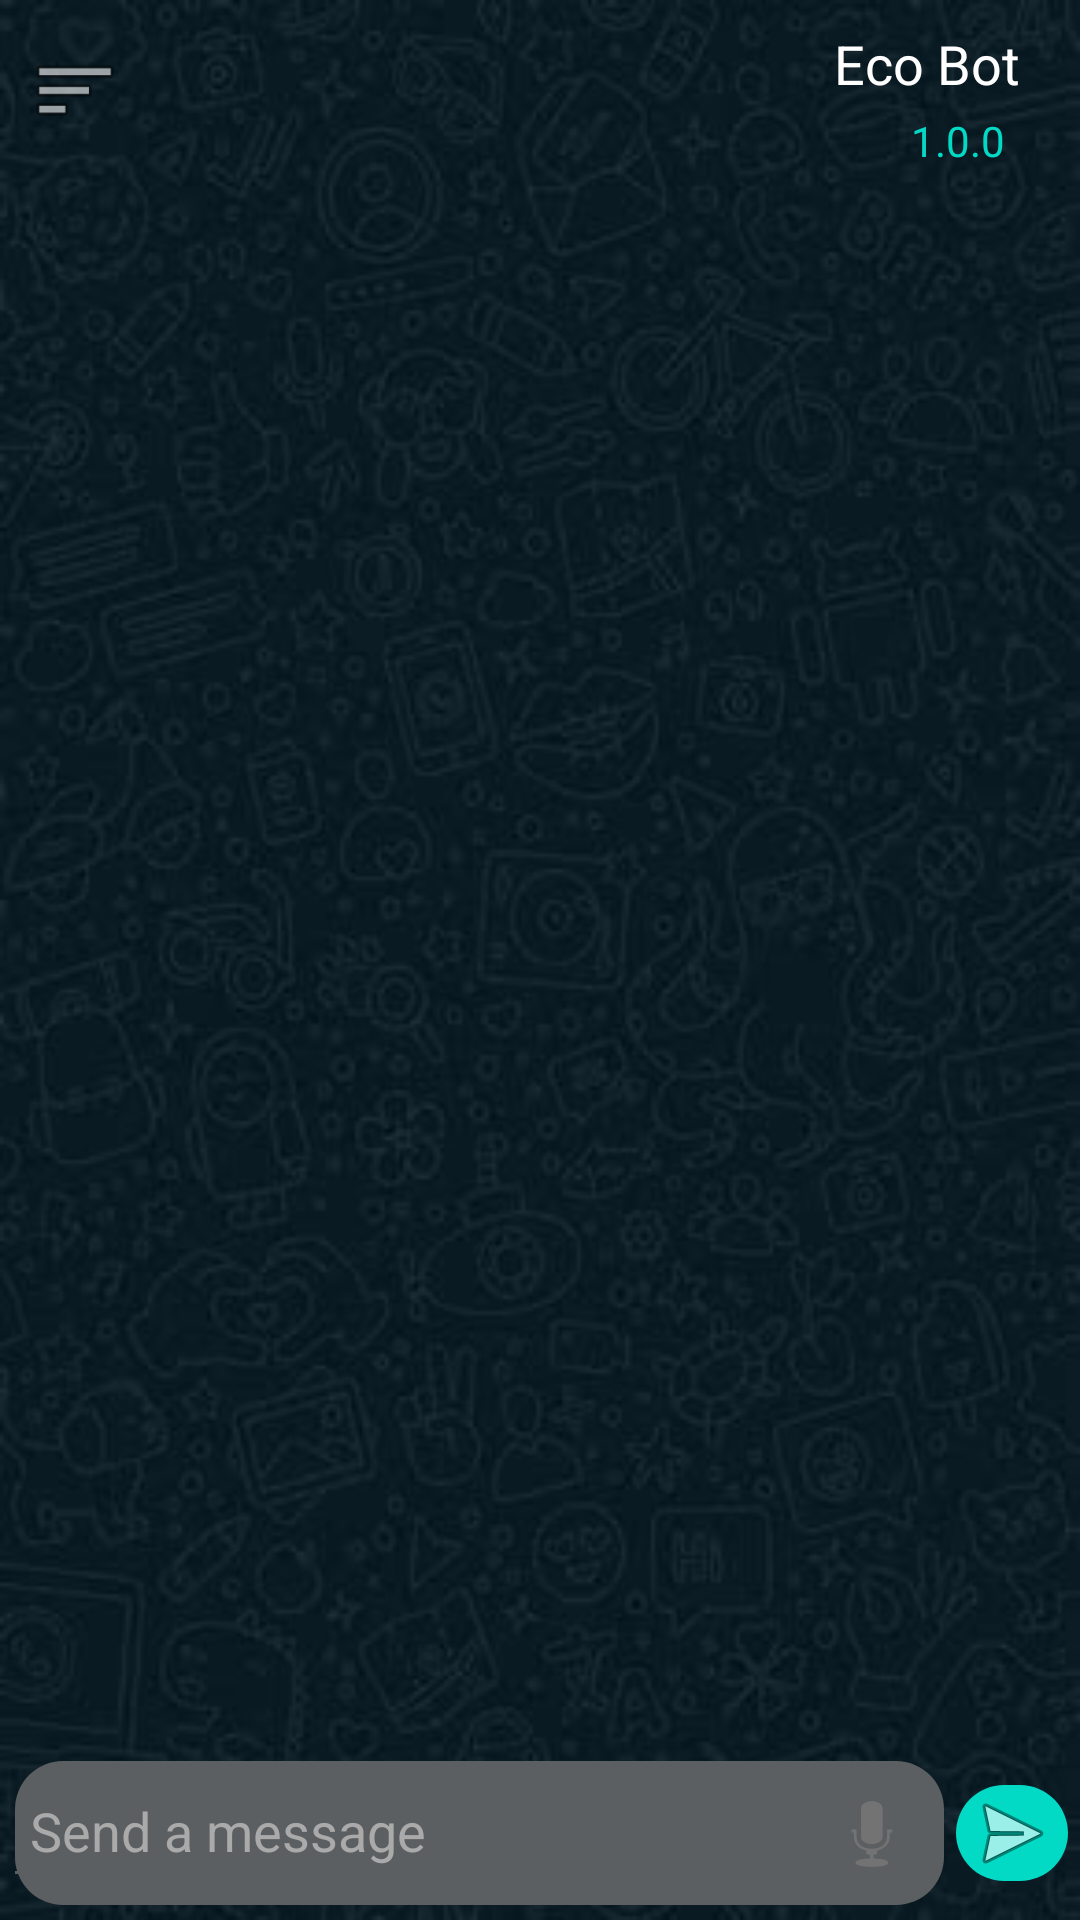

Icon click points for this 1080w x 1920h phone screenshot, format point (x, y):
sort by size: point (75, 90)
